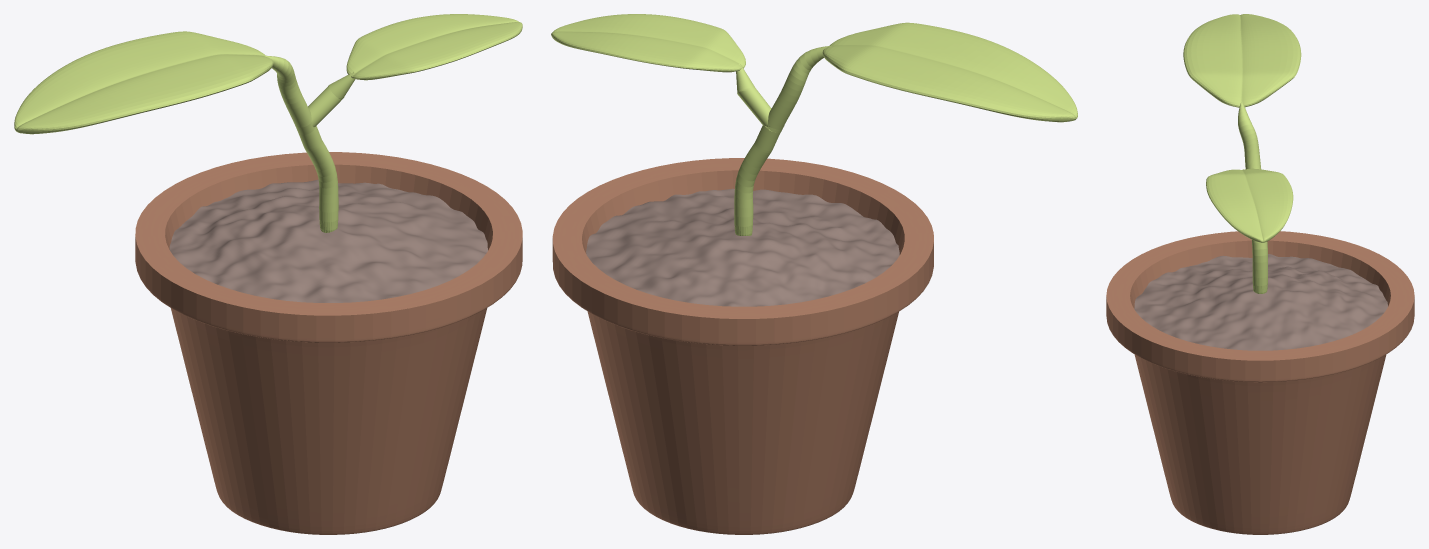
Rendered from pot.fbx.
The picture shows the model from 3 angles, left to right: view 1: azimuth 30°, elevation 25°; view 2: azimuth 150°, elevation 25°; view 3: azimuth 270°, elevation 25°; orthographic projection. The views are drawn at different scales.
Parts seen in each view (by area): view 1: Circle, Circle.001, Plane, Plane.001, Cylinder; view 2: Circle, Circle.001, Plane, Plane.001, Cylinder; view 3: Circle, Circle.001, Plane, Plane.001, Cylinder.
Part boxes in pixels (x1,y1,x2,y2): Circle: (135,152,522,534); Circle.001: (169,179,487,302); Plane: (14,31,273,134); Plane.001: (346,14,522,80); Cylinder: (263,55,354,232); Circle: (552,158,933,534); Circle.001: (586,188,899,306); Plane: (822,22,1077,122); Plane.001: (551,14,745,72); Cylinder: (734,46,830,235); Circle: (1106,231,1414,534); Circle.001: (1134,254,1387,350); Plane: (1183,14,1301,107); Plane.001: (1206,168,1293,242); Cylinder: (1238,102,1267,293).
Bounding box in the file's own units: 480 × 419 × 311.
